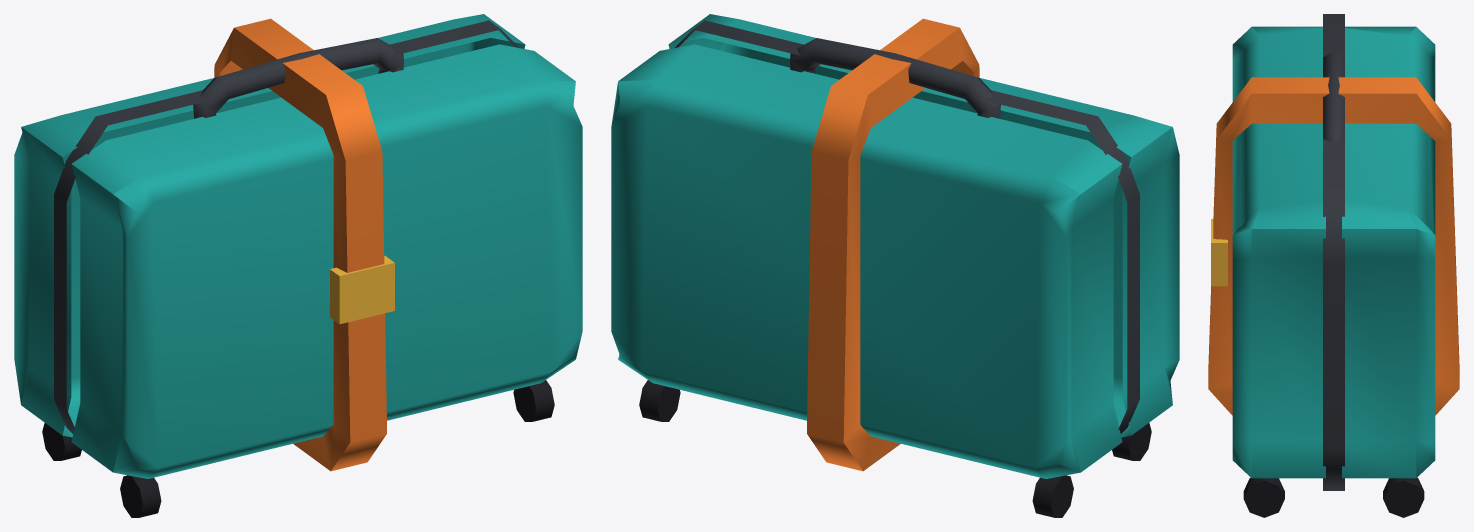
Rendered from Maleta2.fbx.
3 renders of one model, left to right at view 1: azimuth 30°, elevation 25°; view 2: azimuth 150°, elevation 25°; view 3: azimuth 270°, elevation 25°, orthographic. The views are drawn at different scales.
Visible parts, largest first — view 1: Maleta2; view 2: Maleta2; view 3: Maleta2.
Boxes of the visible parts, x1=… form: Maleta2: x1=14, y1=14, x2=582, y2=517; Maleta2: x1=611, y1=14, x2=1179, y2=517; Maleta2: x1=1208, y1=14, x2=1459, y2=517.
Size of the model in its own units: 1.55 by 1.2 by 0.7917.
Materials: 1 (1 with a texture image).
